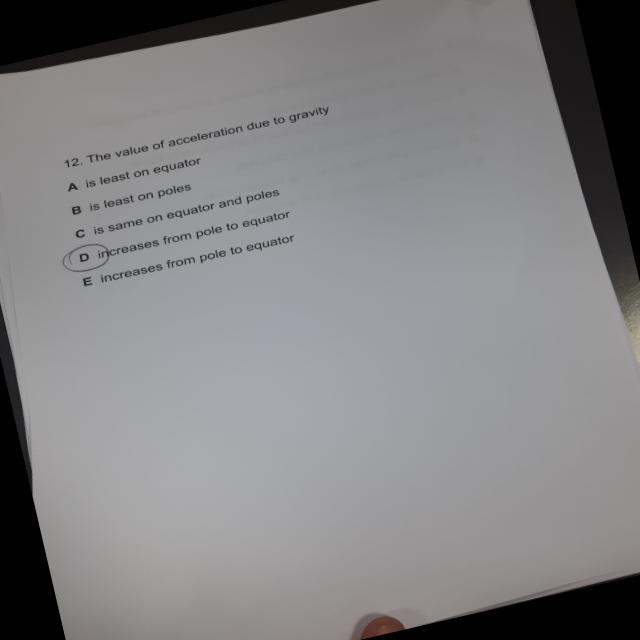D: (55, 238, 119, 280)
